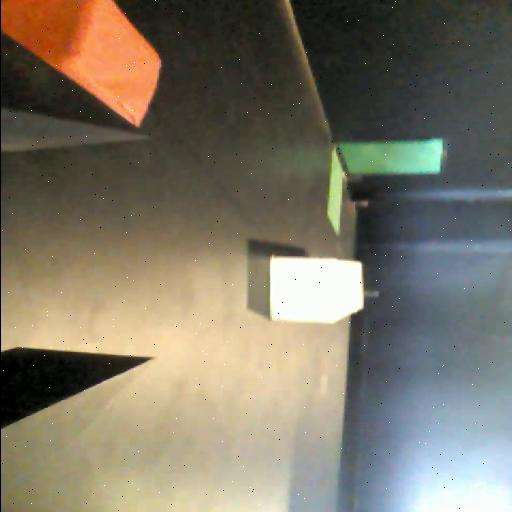cube: (0, 0, 161, 130)
